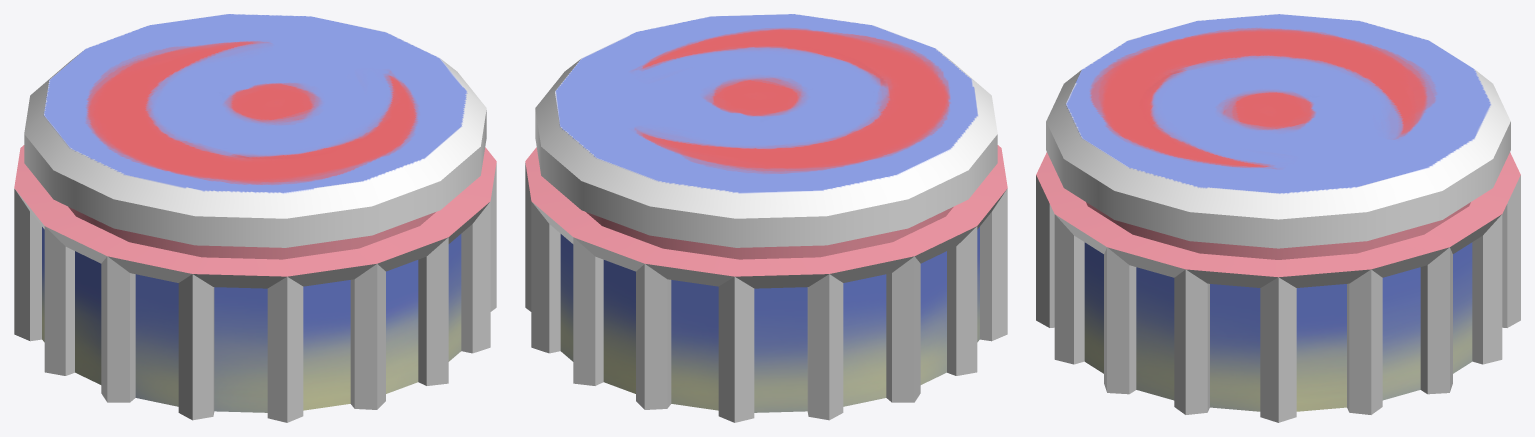
File: Tampa2.fbx
3 renders of one model, left to right at view 1: azimuth 30°, elevation 25°; view 2: azimuth 150°, elevation 25°; view 3: azimuth 270°, elevation 25°, orthographic.
Visible parts, largest first — view 1: Circle; view 2: Circle; view 3: Circle.
Boxes of the visible parts, x1=… form: Circle: x1=14, y1=14, x2=496, y2=422; Circle: x1=525, y1=14, x2=1007, y2=422; Circle: x1=1036, y1=14, x2=1520, y2=422.
Size of the model in its own units: 209 by 103 by 209.
Materials: 1 (1 with a texture image).
